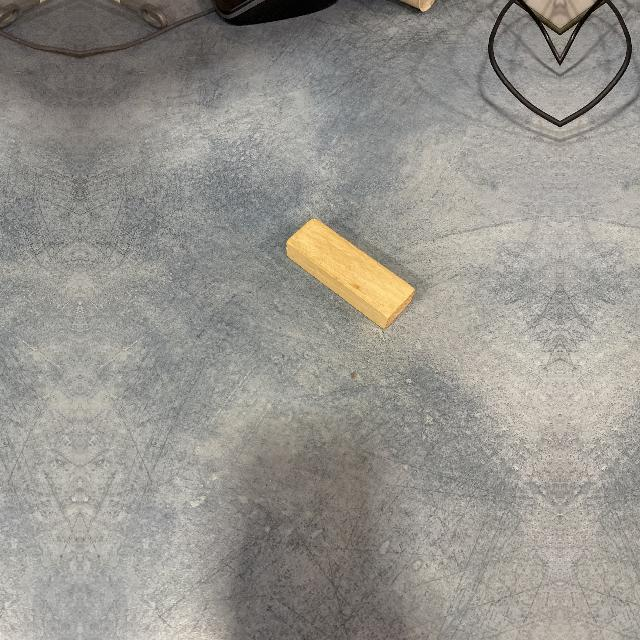jenga: (286, 218, 416, 330)
